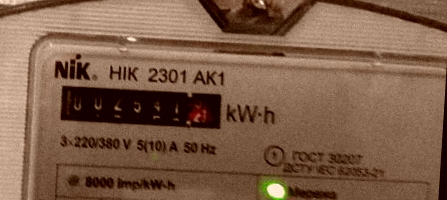0: (69, 90, 83, 112), (90, 90, 103, 111)
1: (169, 95, 181, 116)
2: (110, 92, 123, 112)
4: (150, 93, 163, 115)
5: (129, 92, 142, 115)
6: (191, 109, 202, 124)
screen: (48, 74, 233, 139)
